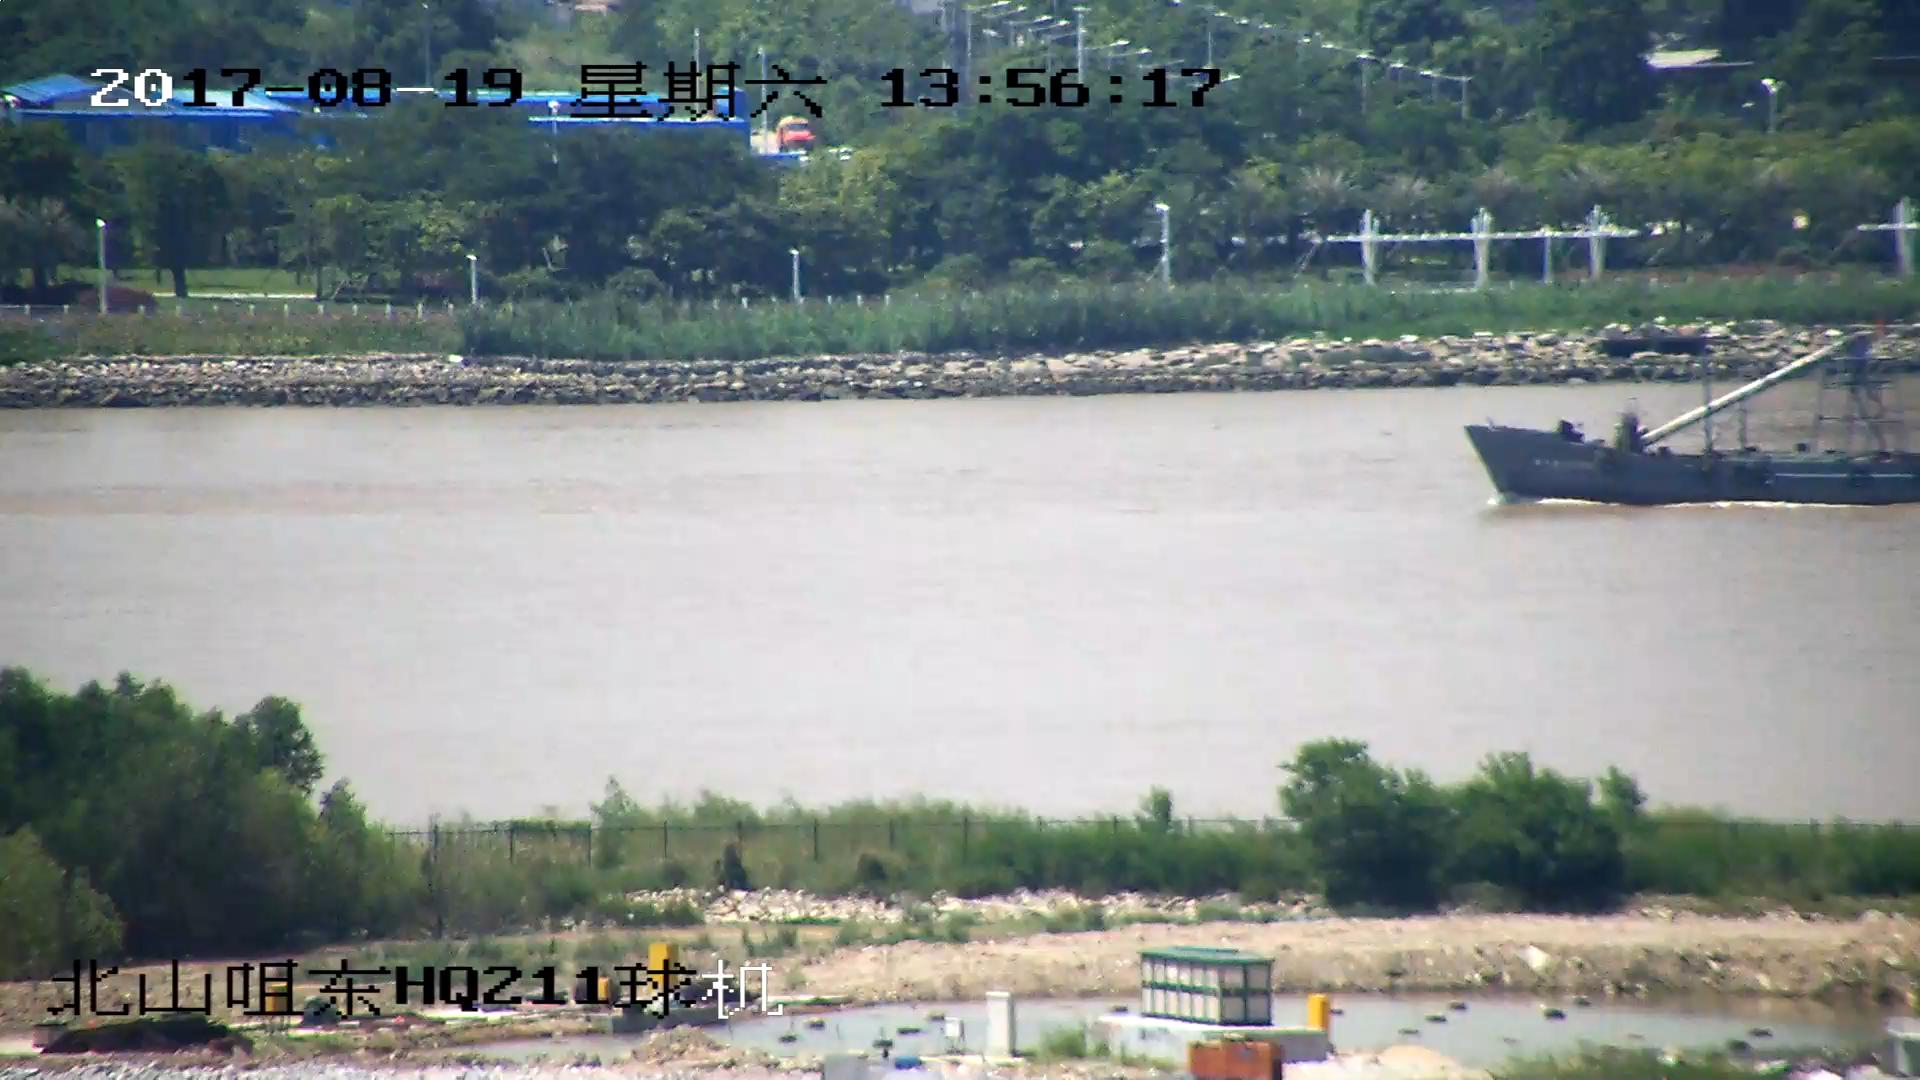fishing boat: (1467, 326, 1920, 505)
